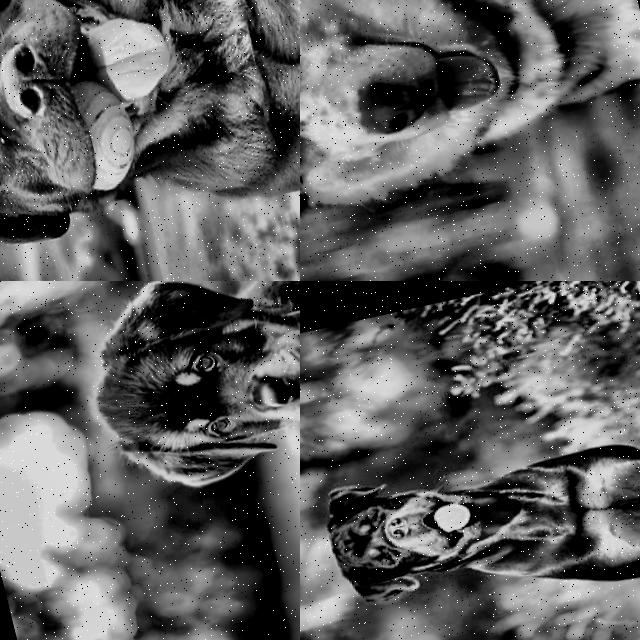husky: (300, 0, 589, 281)
rottweiler: (0, 0, 261, 281), (26, 281, 300, 531), (300, 438, 520, 631)
